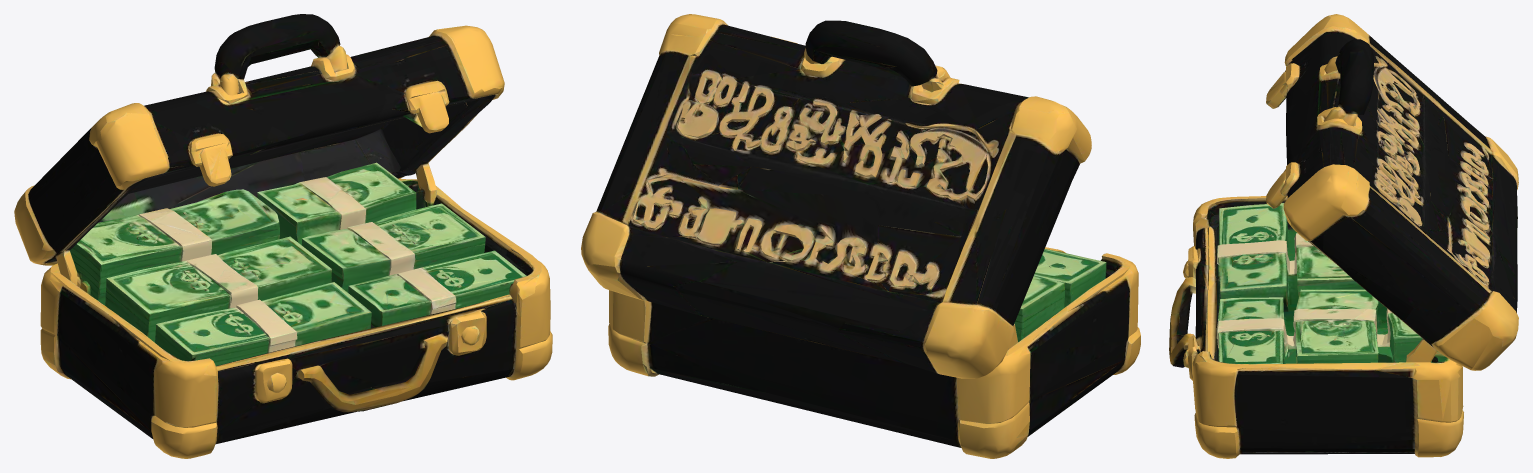
File: maleta_corpo.glb
3 renders of one model, left to right at view 1: azimuth 30°, elevation 25°; view 2: azimuth 150°, elevation 25°; view 3: azimuth 270°, elevation 25°, orthographic. The views are drawn at different scales.
Visible parts, largest first — view 1: output_unwrapped; view 2: output_unwrapped; view 3: output_unwrapped.
Part boxes in pixels (x1=…): output_unwrapped: x1=14, y1=14, x2=552, y2=458; output_unwrapped: x1=581, y1=14, x2=1140, y2=458; output_unwrapped: x1=1169, y1=14, x2=1518, y2=458.
Bounding box in the file's own units: 1.9 × 1.59 × 1.57.
1 material, 1 textured.
